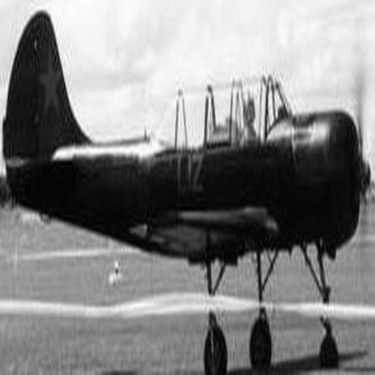airplane: (1, 2, 369, 369)
